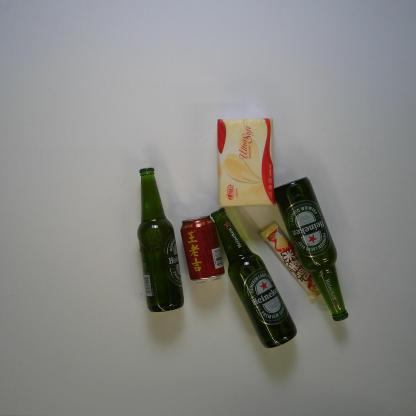Alcohol: (210, 206, 298, 350), (272, 176, 349, 322), (136, 167, 185, 313)
Chocolate: (260, 221, 322, 300)
Drink: (180, 214, 226, 284)
Tissue: (216, 118, 277, 207)
